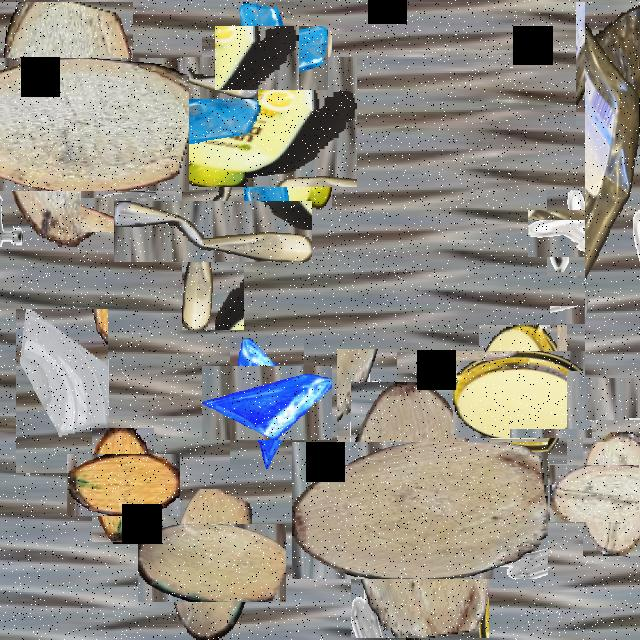glass: (16, 309, 108, 473), (216, 352, 318, 455), (227, 14, 316, 103), (585, 269, 640, 359)
metal: (485, 439, 547, 549), (337, 349, 397, 455), (538, 200, 604, 266), (585, 364, 640, 431), (90, 182, 148, 241)
plastic: (189, 45, 345, 200), (585, 2, 640, 378), (148, 166, 278, 296), (466, 338, 580, 451), (576, 2, 640, 126)
wood: (322, 412, 518, 608), (0, 29, 161, 219), (155, 507, 269, 620), (79, 442, 167, 530), (566, 448, 640, 539)
